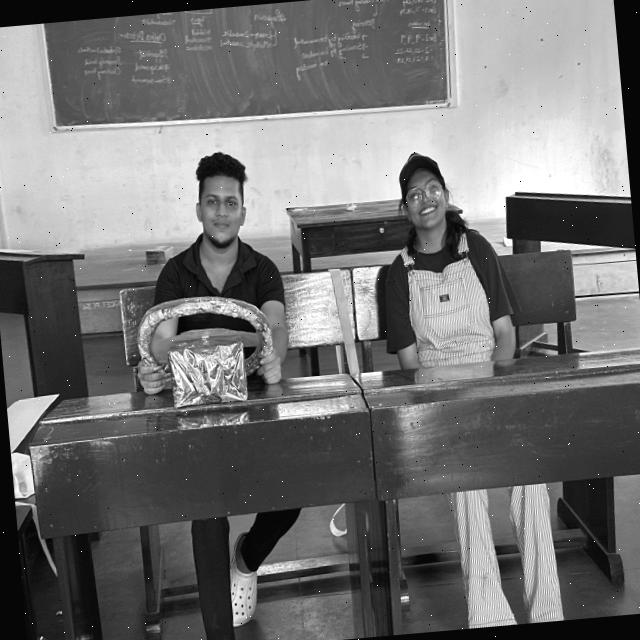Helmet: (132, 235, 296, 402), (358, 230, 540, 368)
